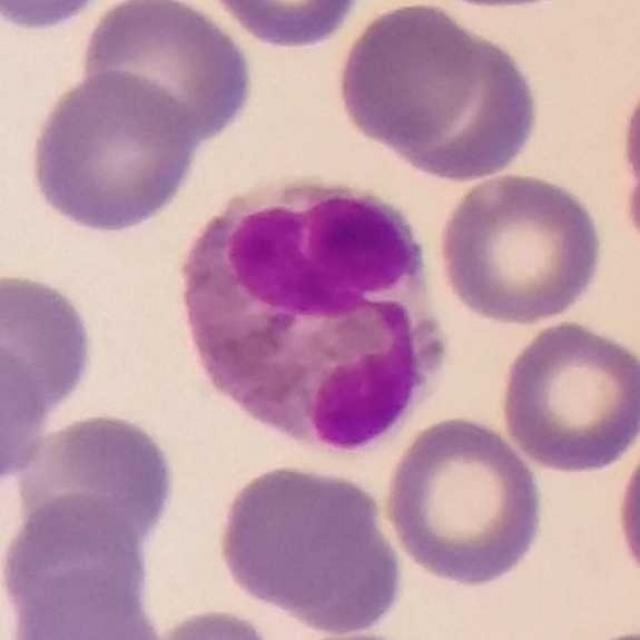Eosinophil: (166, 170, 449, 460)
RBC: (210, 458, 403, 634), (362, 16, 543, 187), (23, 67, 204, 236), (380, 411, 548, 589), (432, 168, 608, 328), (76, 0, 257, 146), (9, 408, 181, 556), (495, 316, 640, 476), (333, 0, 482, 155), (0, 490, 155, 636), (0, 267, 99, 422), (6, 570, 162, 640), (200, 0, 367, 53), (0, 334, 50, 494), (613, 54, 640, 260), (140, 604, 294, 640), (611, 413, 640, 598), (0, 0, 114, 35)
